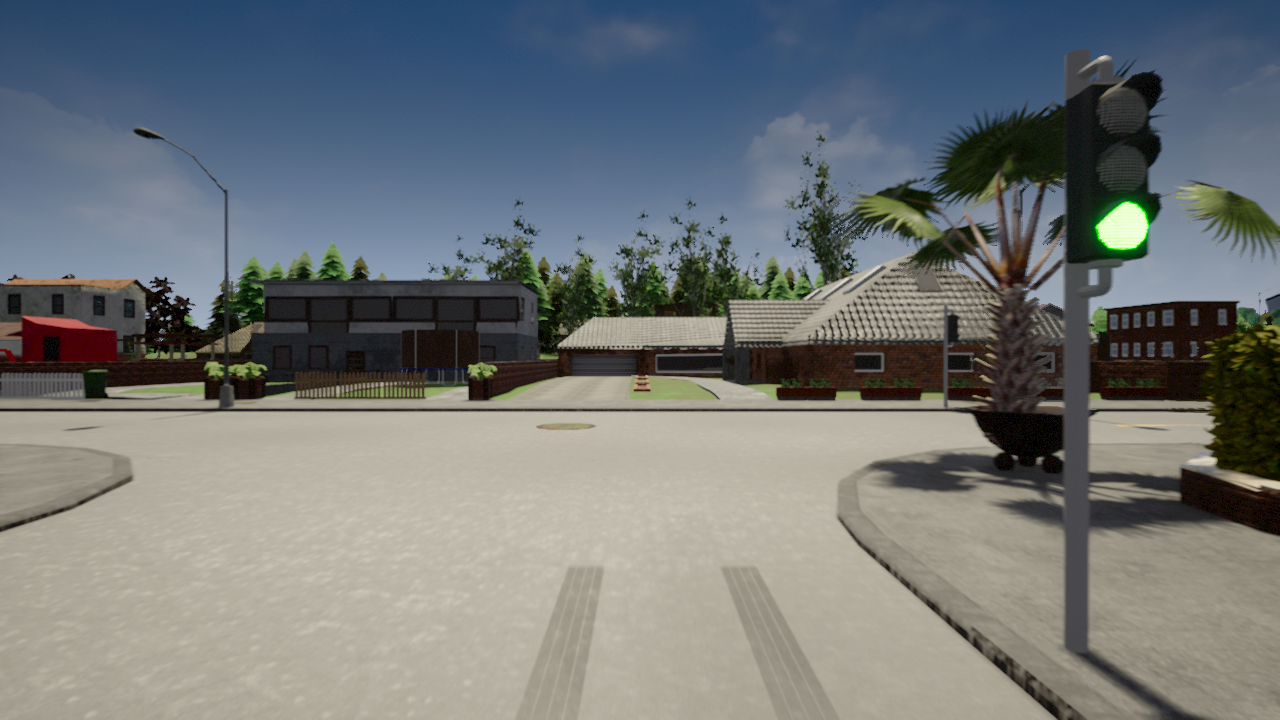green: (1065, 68, 1164, 273)
